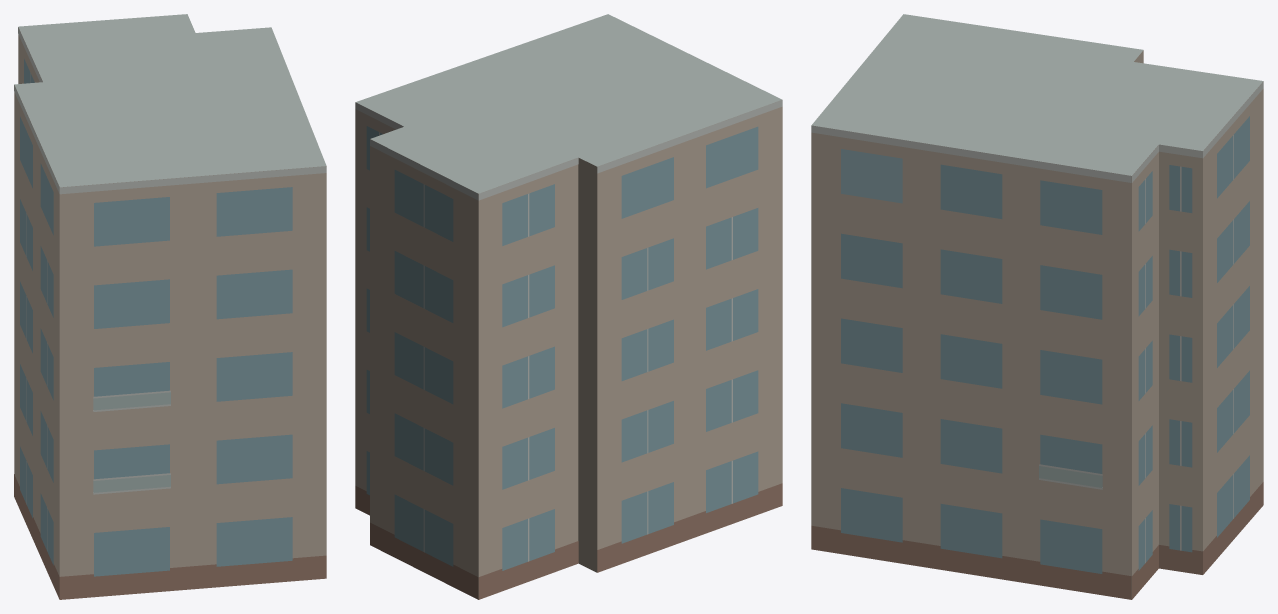
The model's file is survey-upis-32713075.glb.
3 renders of one model, left to right at view 1: azimuth 30°, elevation 25°; view 2: azimuth 150°, elevation 25°; view 3: azimuth 270°, elevation 25°, orthographic. The views are drawn at different scales.
Parts seen in each view (by area): view 1: survey-upis-32713075.tmp; view 2: survey-upis-32713075.tmp; view 3: survey-upis-32713075.tmp.
Part boxes in pixels (x1=…): survey-upis-32713075.tmp: x1=14, y1=14, x2=326, y2=599; survey-upis-32713075.tmp: x1=355, y1=14, x2=782, y2=599; survey-upis-32713075.tmp: x1=811, y1=14, x2=1263, y2=599.
Bounding box in the file's own units: 11.85 × 14.45 × 13.98.
